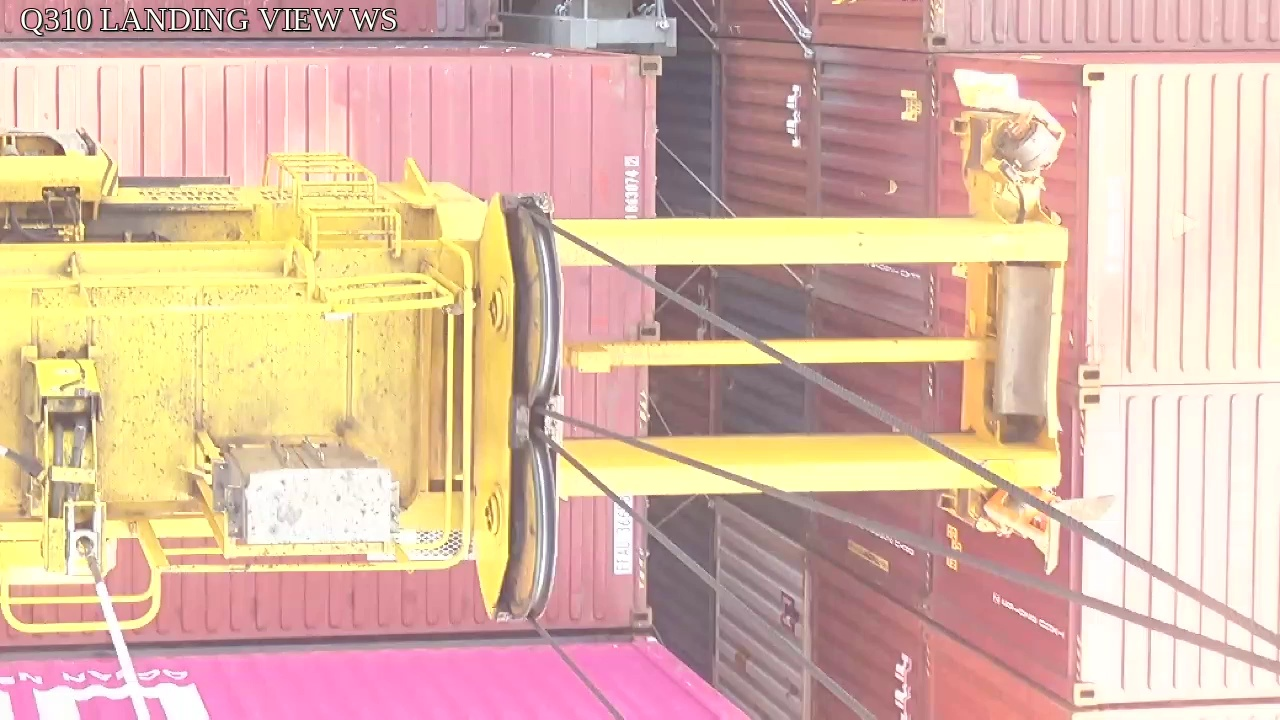right: (473, 193, 564, 623)
